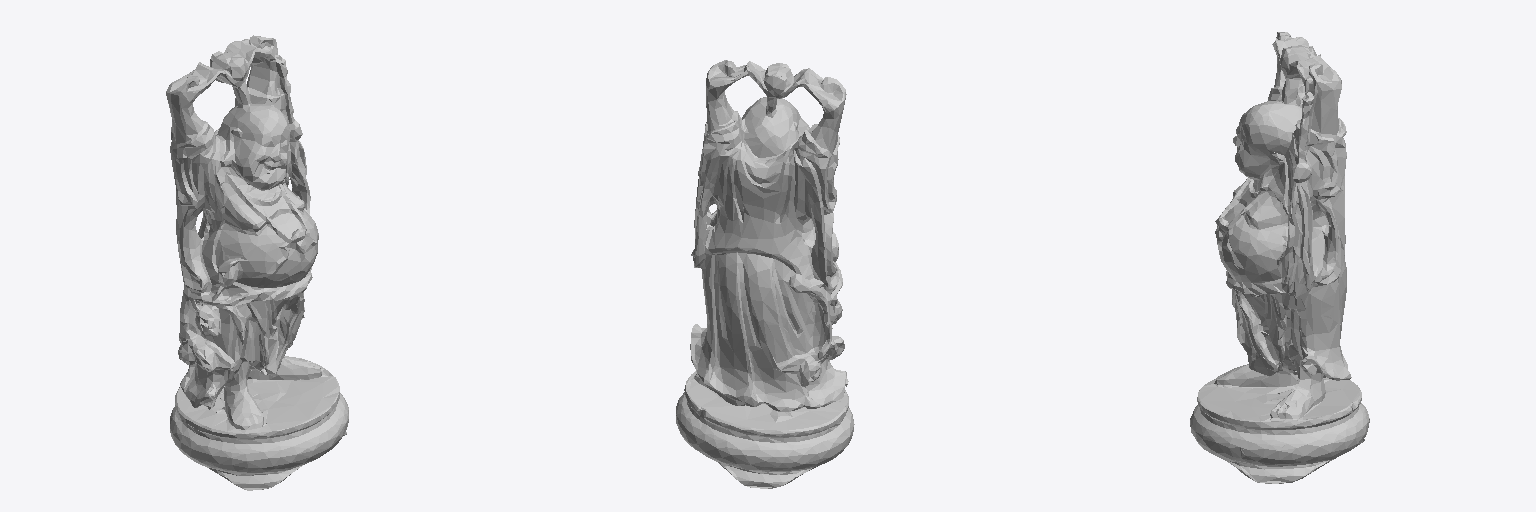
The model's file is buddha.obj.
The picture shows the model from 3 angles: view 1: azimuth 30°, elevation 25°; view 2: azimuth 150°, elevation 25°; view 3: azimuth 270°, elevation 25°; orthographic projection.
Parts seen in each view (by area): view 1: happy; view 2: happy; view 3: happy.
Part boxes in pixels (bbox=[...]): happy: bbox=[166, 35, 348, 490]; happy: bbox=[676, 60, 854, 488]; happy: bbox=[1190, 32, 1369, 483].
Bounding box in the file's own units: 1.49 × 3.54 × 1.43.